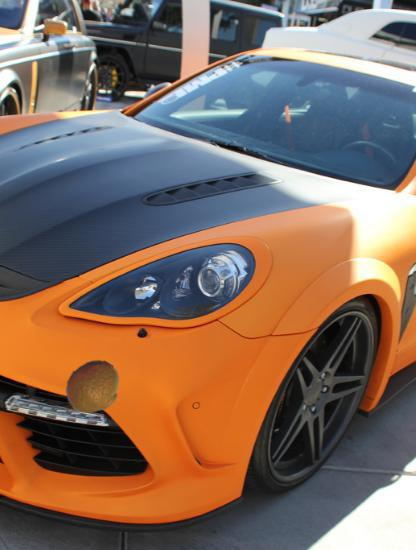Mandarine: (65, 359, 122, 416)
